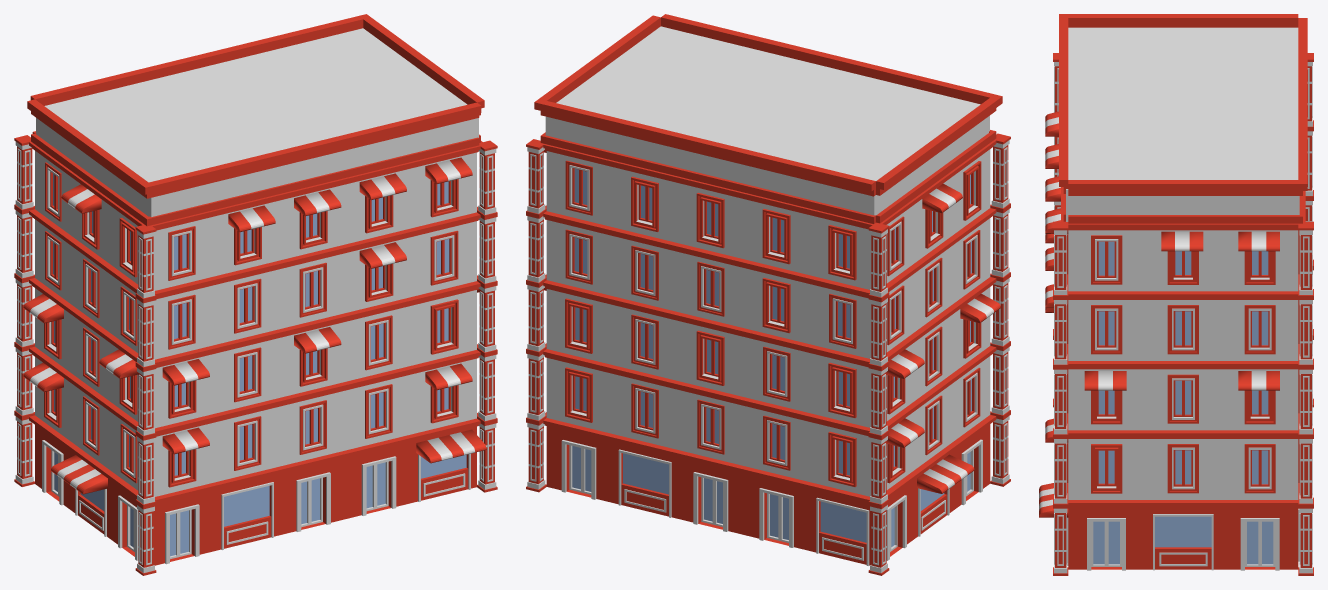
Rendered from Building_3.fbx.
The picture shows the model from 3 angles, left to right: view 1: azimuth 30°, elevation 25°; view 2: azimuth 150°, elevation 25°; view 3: azimuth 270°, elevation 25°; orthographic projection.
Parts seen in each view (by area): view 1: Home-6; view 2: Home-6; view 3: Home-6.
Part boxes in pixels (x1=…): Home-6: x1=14, y1=14, x2=497, y2=575; Home-6: x1=526, y1=14, x2=1010, y2=575; Home-6: x1=1039, y1=14, x2=1313, y2=575.
Bounding box in the file's own units: 2128 × 2098 × 1341.
